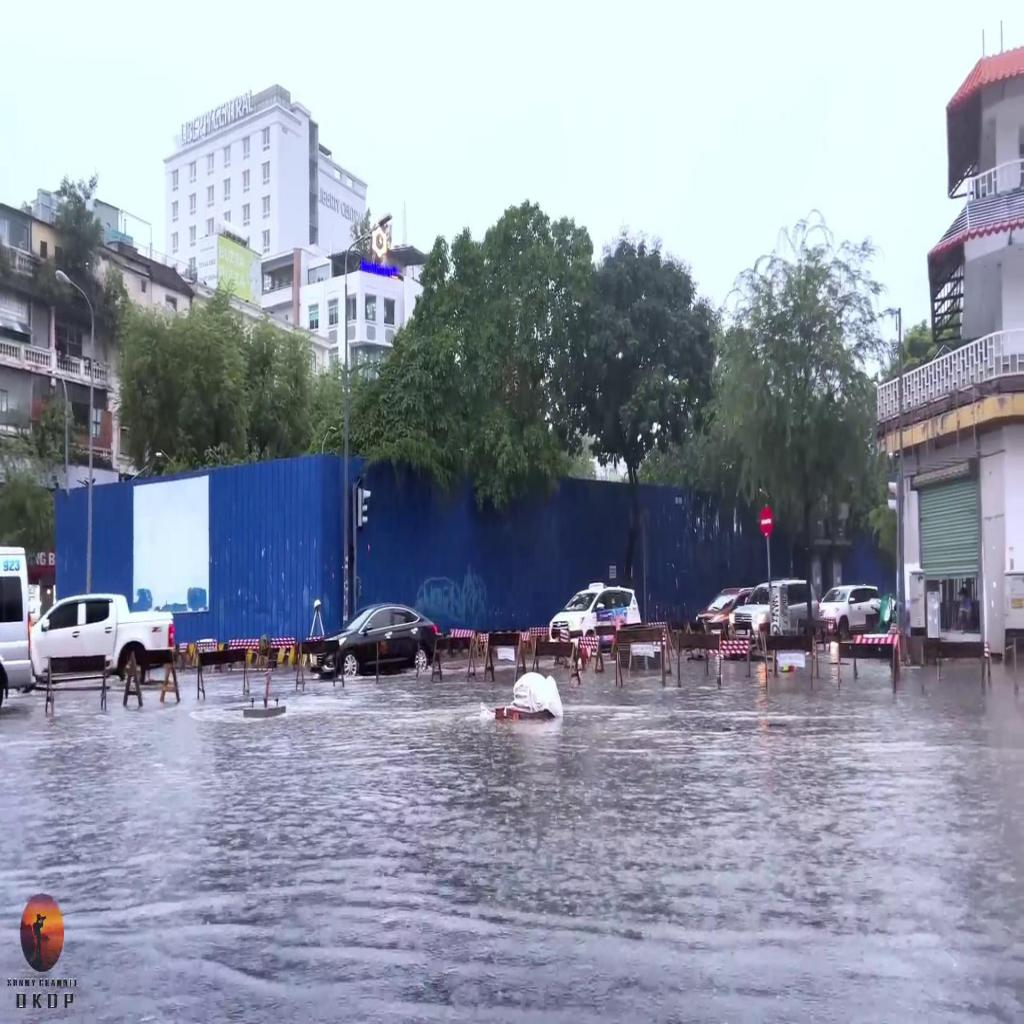cam_xe_di_nguoc_chieu: (761, 505, 772, 537)
